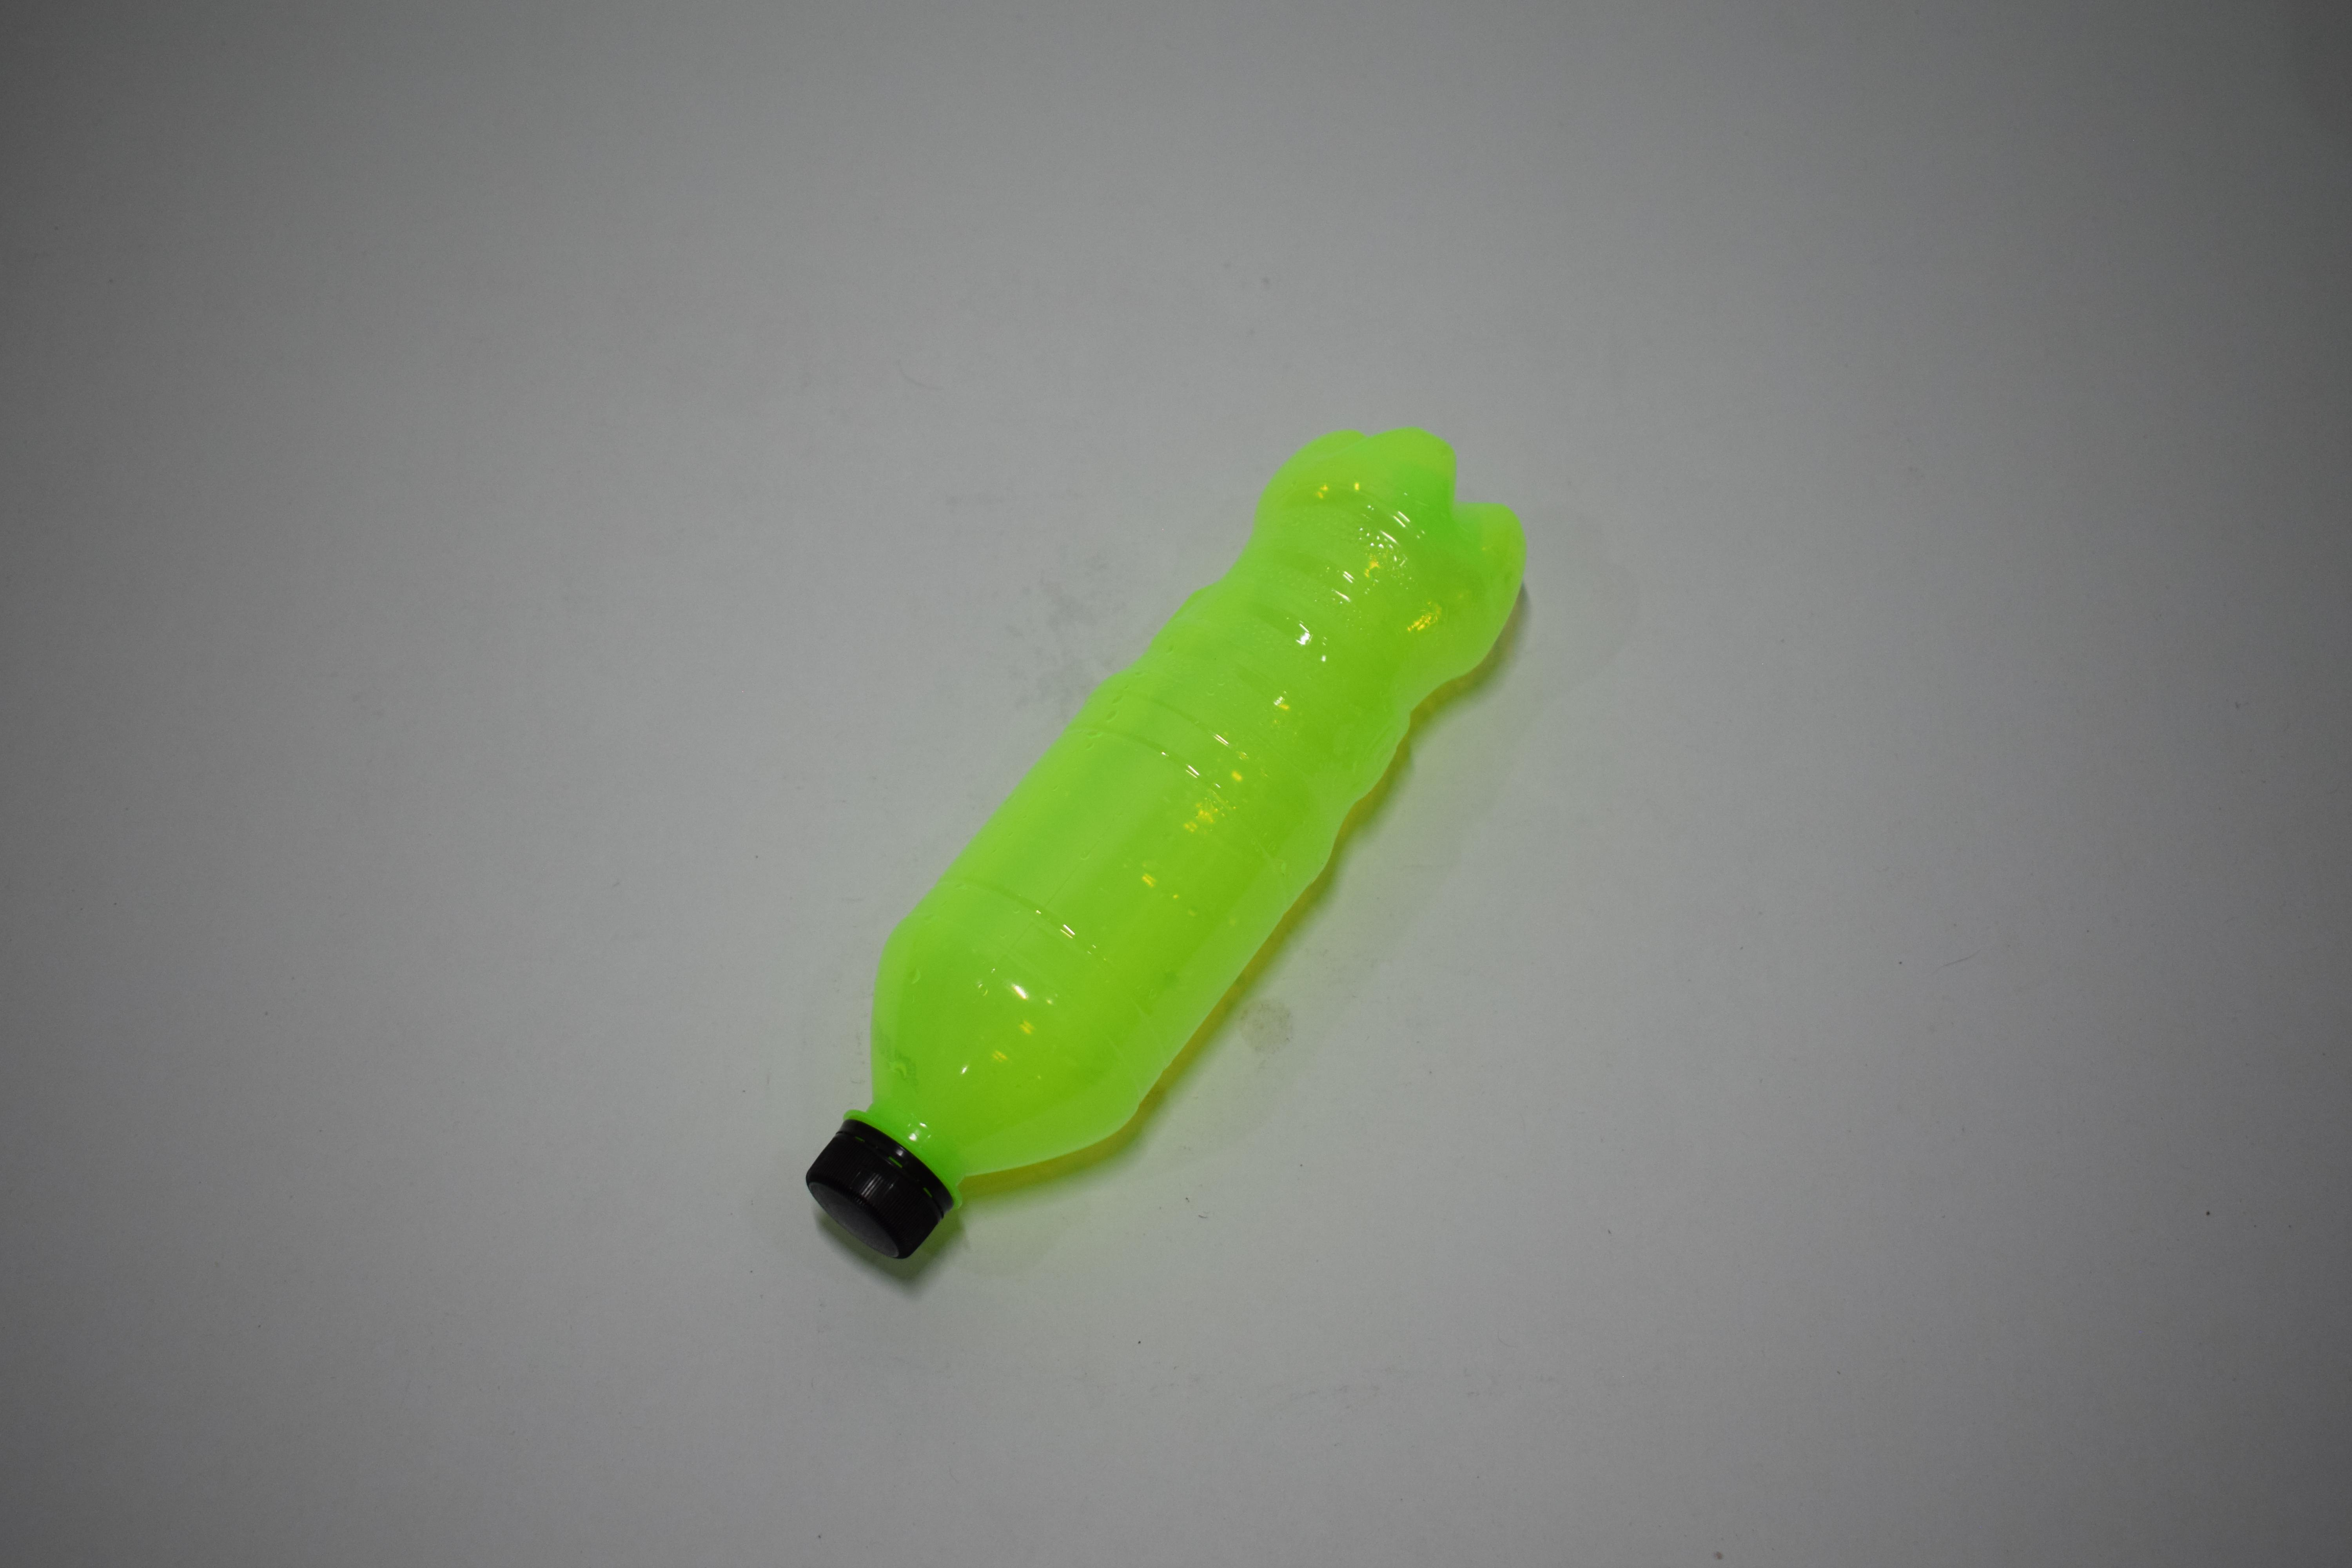bottle: (789, 28, 1519, 93)
